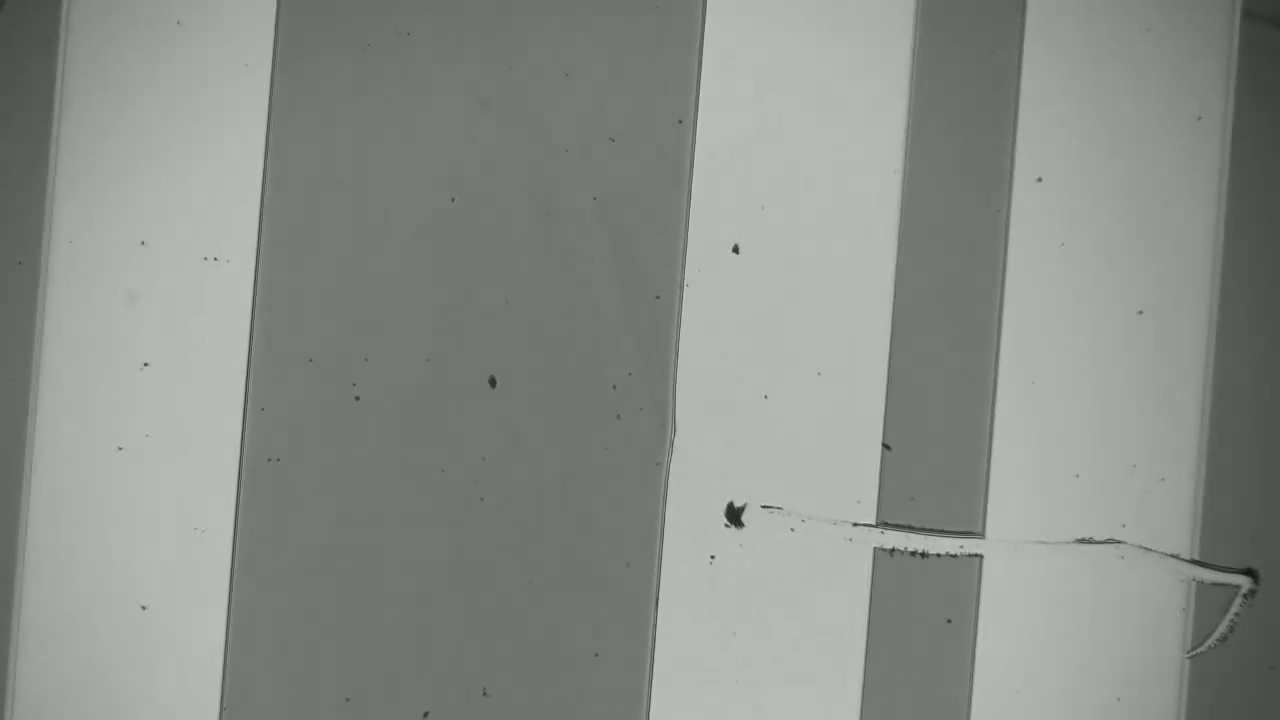Short_circuit: (841, 501, 1012, 577), (1142, 534, 1279, 615)
